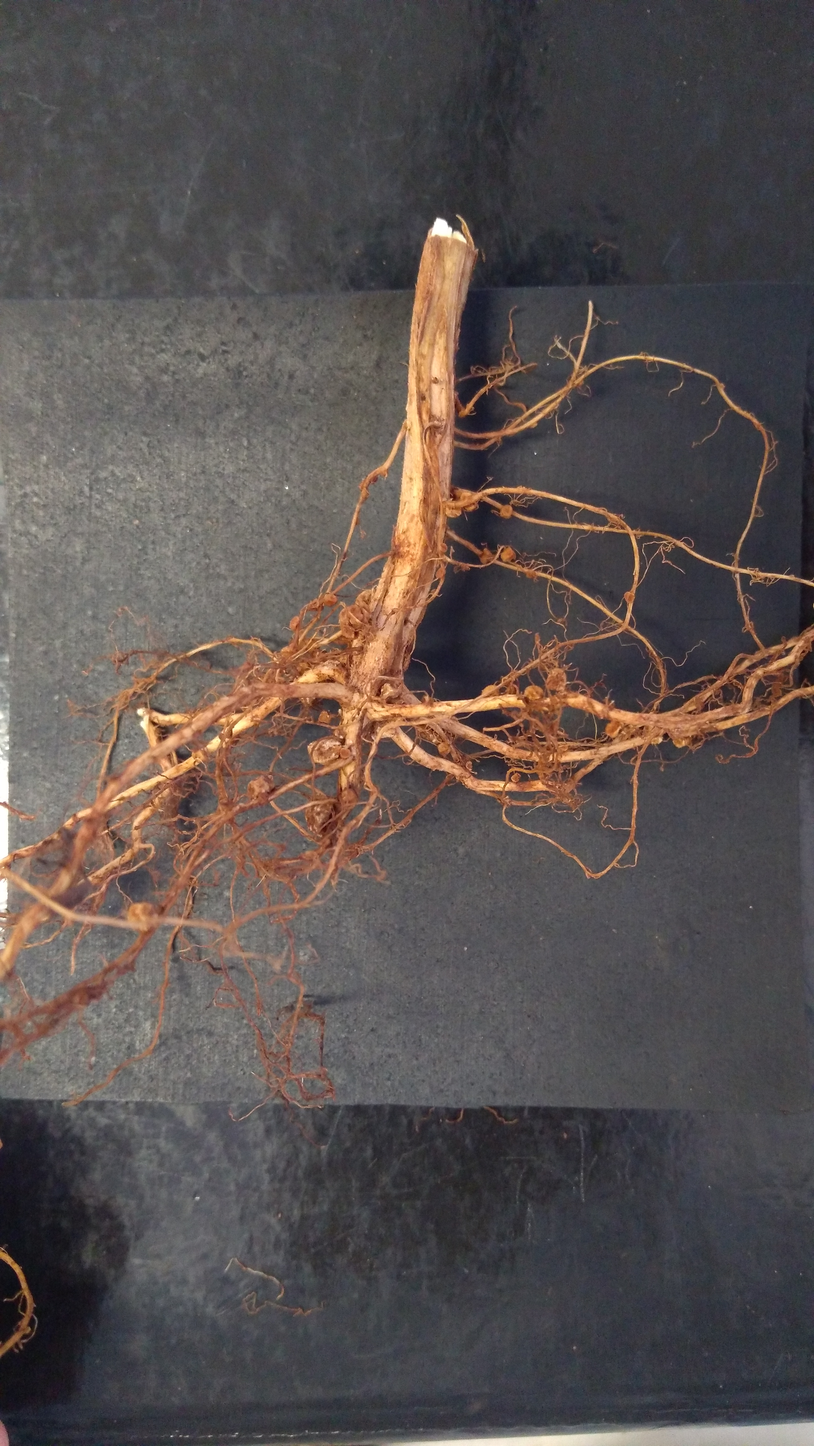nodule: (301, 796, 336, 841), (335, 602, 374, 640), (124, 901, 163, 933), (305, 735, 343, 766), (244, 771, 277, 799), (543, 665, 571, 694), (379, 681, 406, 705), (336, 786, 361, 810), (353, 587, 376, 611), (478, 682, 504, 701), (458, 490, 479, 513), (442, 499, 462, 521), (522, 683, 544, 703), (319, 591, 340, 608), (499, 546, 519, 563), (605, 718, 621, 738), (498, 503, 515, 521), (436, 740, 453, 758), (478, 546, 493, 566), (317, 710, 334, 727), (671, 736, 693, 749), (432, 565, 450, 580), (337, 745, 354, 760), (523, 567, 539, 581), (623, 590, 637, 605), (288, 614, 299, 633), (436, 540, 450, 554), (510, 770, 523, 784), (465, 759, 474, 772)
